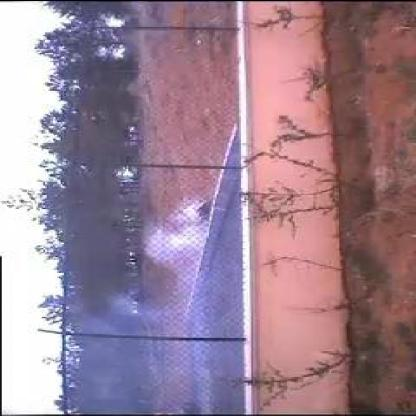-: (82, 198, 234, 338)
